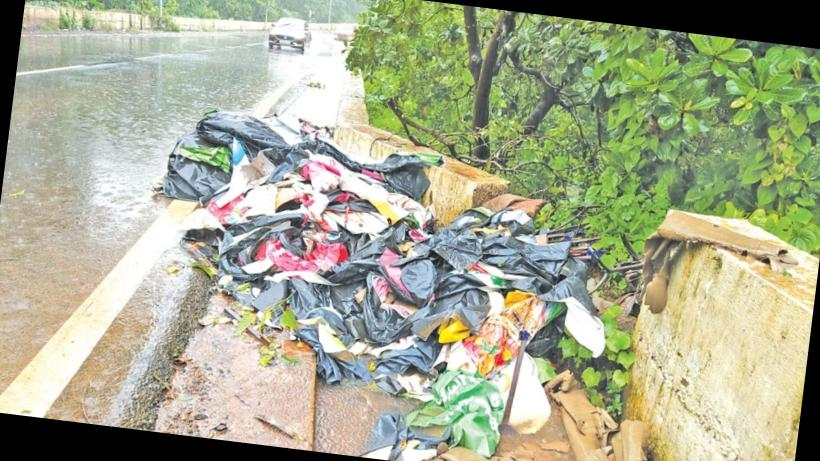road: (0, 31, 336, 391)
trash: (190, 150, 587, 382)
